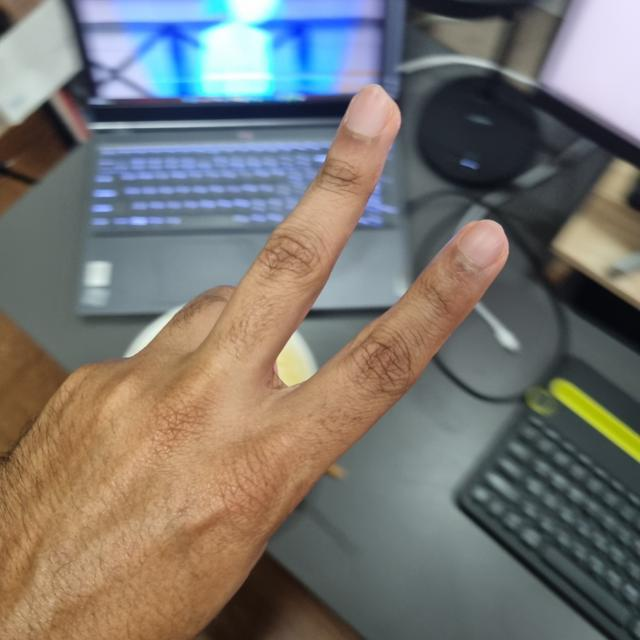Scissors: (0, 92, 504, 639)
